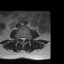CCS_normal: (22, 36, 24, 44)
LFS_stenosis: (26, 35, 27, 41)
LLS_normal: (24, 35, 26, 42)
RFS_stenosis: (18, 35, 20, 41)
RLS_normal: (21, 36, 22, 42)
